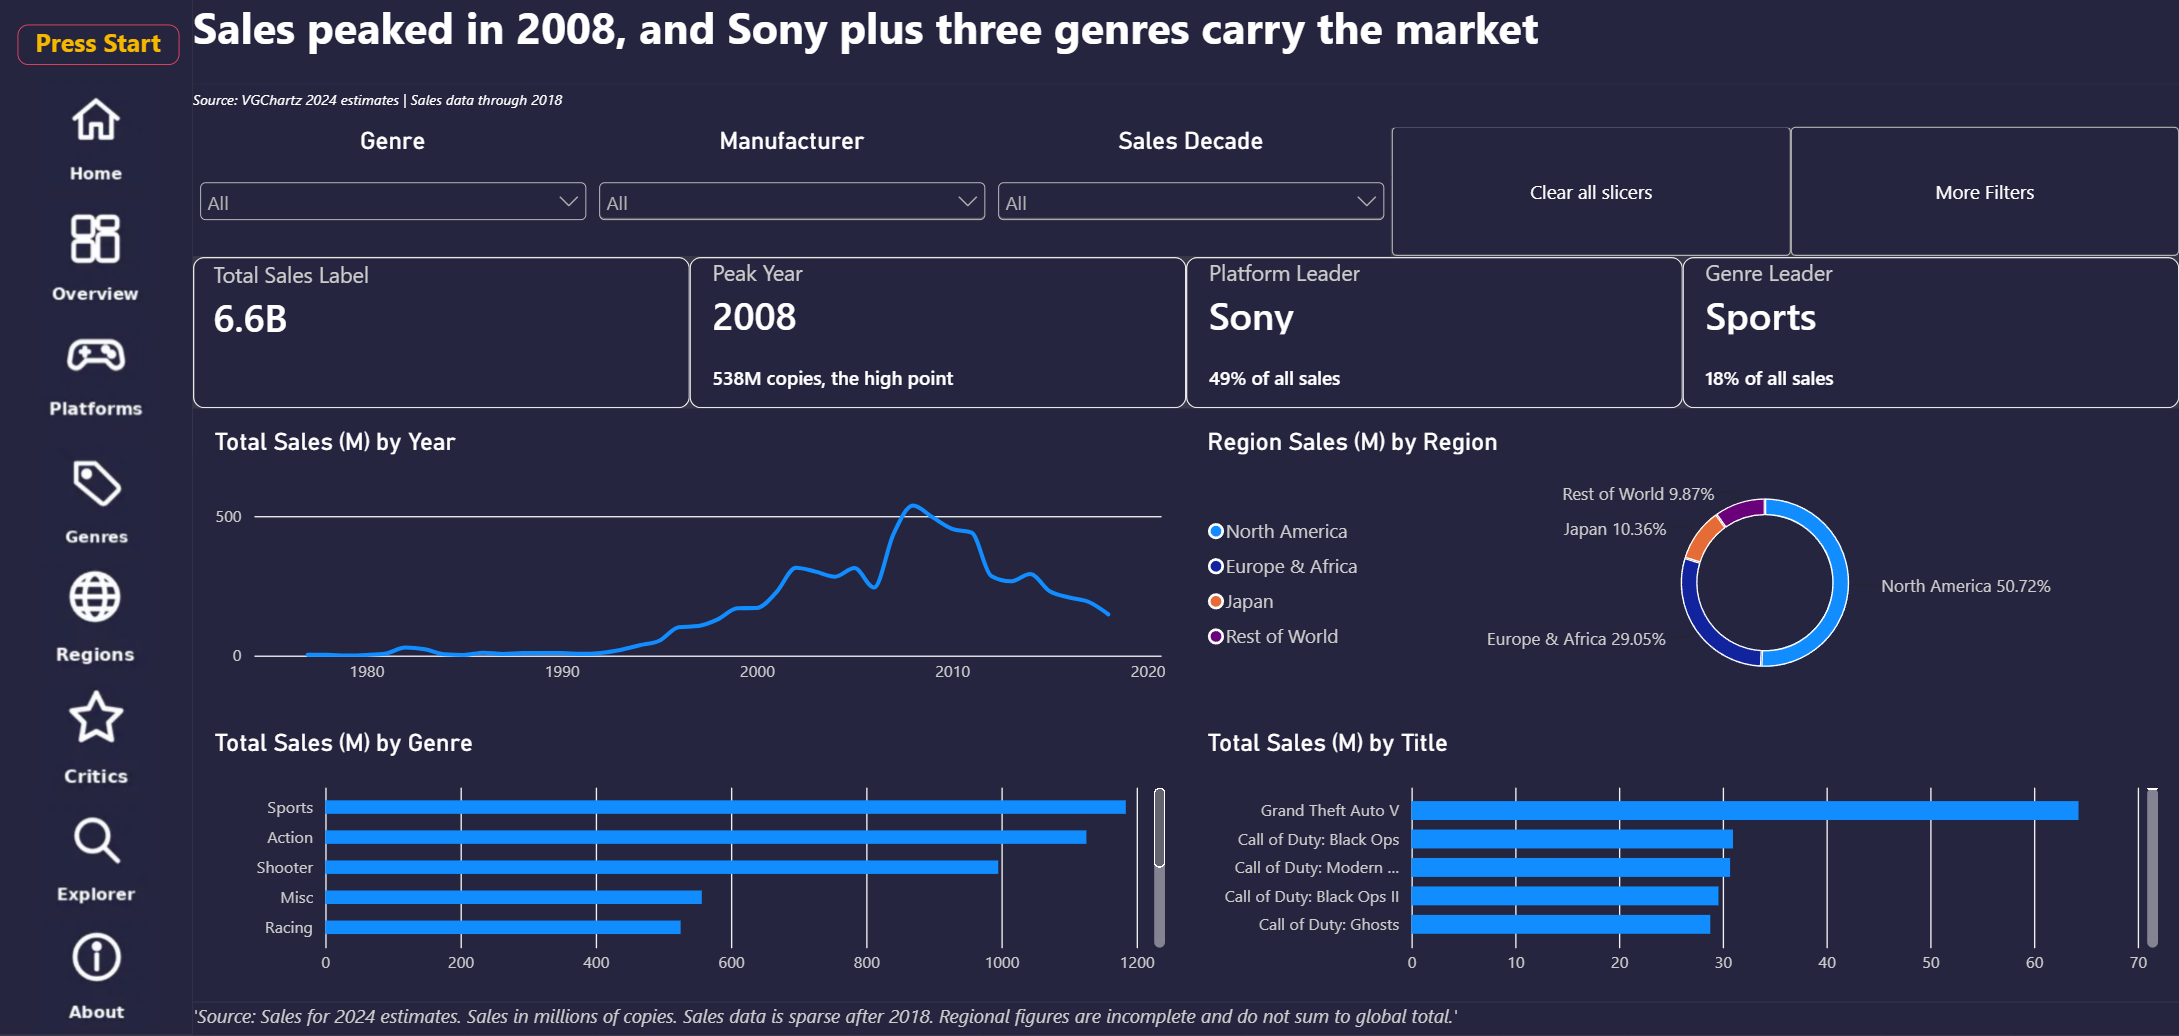

The dashboard page shown, as its layout file describes it:
{"tool":"powerbi","page":{"name":"Overview","canvas":[1920,1080],"ordinal":1},"visuals":[{"type":"shape","box":[35.6,59,144,768],"z":0},{"type":"textbox","box":[49.6,79,120,30],"z":1000},{"type":"textbox","box":[179.6,123,1472,32],"z":1000,"group":"g1"},{"type":"textbox","box":[179.6,59,1472,64],"z":2000},{"type":"slicer","title":"Genre","fields":{"Values":["Games.Genre"]},"box":[179.6,155,296,96],"z":3000},{"type":"slicer","title":"Manufacturer","fields":{"Values":["Console_Map.Manufacturer"]},"box":[475.6,155,296,96],"z":4000},{"type":"slicer","title":"Sales Decade","fields":{"Values":["Games.sales_decade"]},"box":[771.6,155,296,96],"z":5000},{"type":"actionButton","box":[1067.6,155,296,96],"z":6000},{"type":"lineChart","fields":{"Category":["Games.release_year"],"Y":["Games.Total Sales (M)"]},"box":[179.6,363,736,224],"z":7000},{"type":"donutChart","fields":{"Category":["Region_Sales.region"],"Y":["Games.Region Sales (M)"]},"box":[915.6,363,736,224],"z":8000},{"type":"clusteredBarChart","fields":{"Category":["Games.genre"],"Y":["Games.Total Sales (M)"]},"box":[179.6,587,736,216],"z":9000},{"type":"textbox","box":[179.6,803,1472,24],"z":10000},{"type":"barChart","fields":{"Category":["Games.title"],"Y":["Games.Total Sales (M)"]},"box":[915.6,587,736,216],"z":11000},{"type":"group","id":"g1","title":"Group 1","box":[179.6,123,1472,32],"z":12000},{"type":"actionButton","box":[1363.6,155,288,96],"z":14000},{"type":"actionButton","box":[35.6,115,144,88],"z":15000},{"type":"actionButton","box":[35.6,291,144,88],"z":16000},{"type":"actionButton","box":[35.6,203,144,88],"z":17000},{"type":"actionButton","box":[35.6,387,144,88],"z":18000},{"type":"actionButton","box":[35.6,475,144,88],"z":19000},{"type":"actionButton","box":[35.6,563,144,88],"z":20000},{"type":"actionButton","box":[35.6,651,144,88],"z":21000},{"type":"actionButton","box":[35.6,739,144,88],"z":22000},{"type":"cardVisual","fields":{"Data":["Games.Total Sales Label"]},"box":[179.6,251,368,112],"z":23000},{"type":"cardVisual","fields":{"Data":["Games.Peak Year Label"]},"box":[547.6,251,368,112],"z":24000},{"type":"cardVisual","fields":{"Data":["Games.Top Genre"]},"box":[1283.6,251,368,112],"z":25000},{"type":"cardVisual","fields":{"Data":["Games.Top Manufacturer"]},"box":[915.6,251,368,112],"z":26000}]}

Visuals, with their boxes on the page's 1920x1080 design canvas (x1, y1, x2, y2). These are canvas units, not pixel positions in the 2179x1036 screenshot, which may show the page scaled, cropped or inside an application window:
shape: <region>36, 59, 180, 827</region>
textbox: <region>50, 79, 170, 109</region>
textbox: <region>180, 123, 1652, 155</region>
textbox: <region>180, 59, 1652, 123</region>
"Genre" slicer: <region>180, 155, 476, 251</region>
"Manufacturer" slicer: <region>476, 155, 772, 251</region>
"Sales Decade" slicer: <region>772, 155, 1068, 251</region>
actionButton: <region>1068, 155, 1364, 251</region>
lineChart - Games.release_year x Games.Total Sales (M): <region>180, 363, 916, 587</region>
donutChart - Region_Sales.region x Games.Region Sales (M): <region>916, 363, 1652, 587</region>
clusteredBarChart - Games.genre x Games.Total Sales (M): <region>180, 587, 916, 803</region>
textbox: <region>180, 803, 1652, 827</region>
barChart - Games.title x Games.Total Sales (M): <region>916, 587, 1652, 803</region>
"Group 1" group: <region>180, 123, 1652, 155</region>
actionButton: <region>1364, 155, 1652, 251</region>
actionButton: <region>36, 115, 180, 203</region>
actionButton: <region>36, 291, 180, 379</region>
actionButton: <region>36, 203, 180, 291</region>
actionButton: <region>36, 387, 180, 475</region>
actionButton: <region>36, 475, 180, 563</region>
actionButton: <region>36, 563, 180, 651</region>
actionButton: <region>36, 651, 180, 739</region>
actionButton: <region>36, 739, 180, 827</region>
cardVisual - Games.Total Sales Label: <region>180, 251, 548, 363</region>
cardVisual - Games.Peak Year Label: <region>548, 251, 916, 363</region>
cardVisual - Games.Top Genre: <region>1284, 251, 1652, 363</region>
cardVisual - Games.Top Manufacturer: <region>916, 251, 1284, 363</region>
